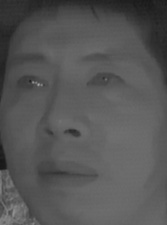eye: (84, 68, 124, 94), (11, 70, 50, 94)
mouth: (30, 150, 99, 193)
